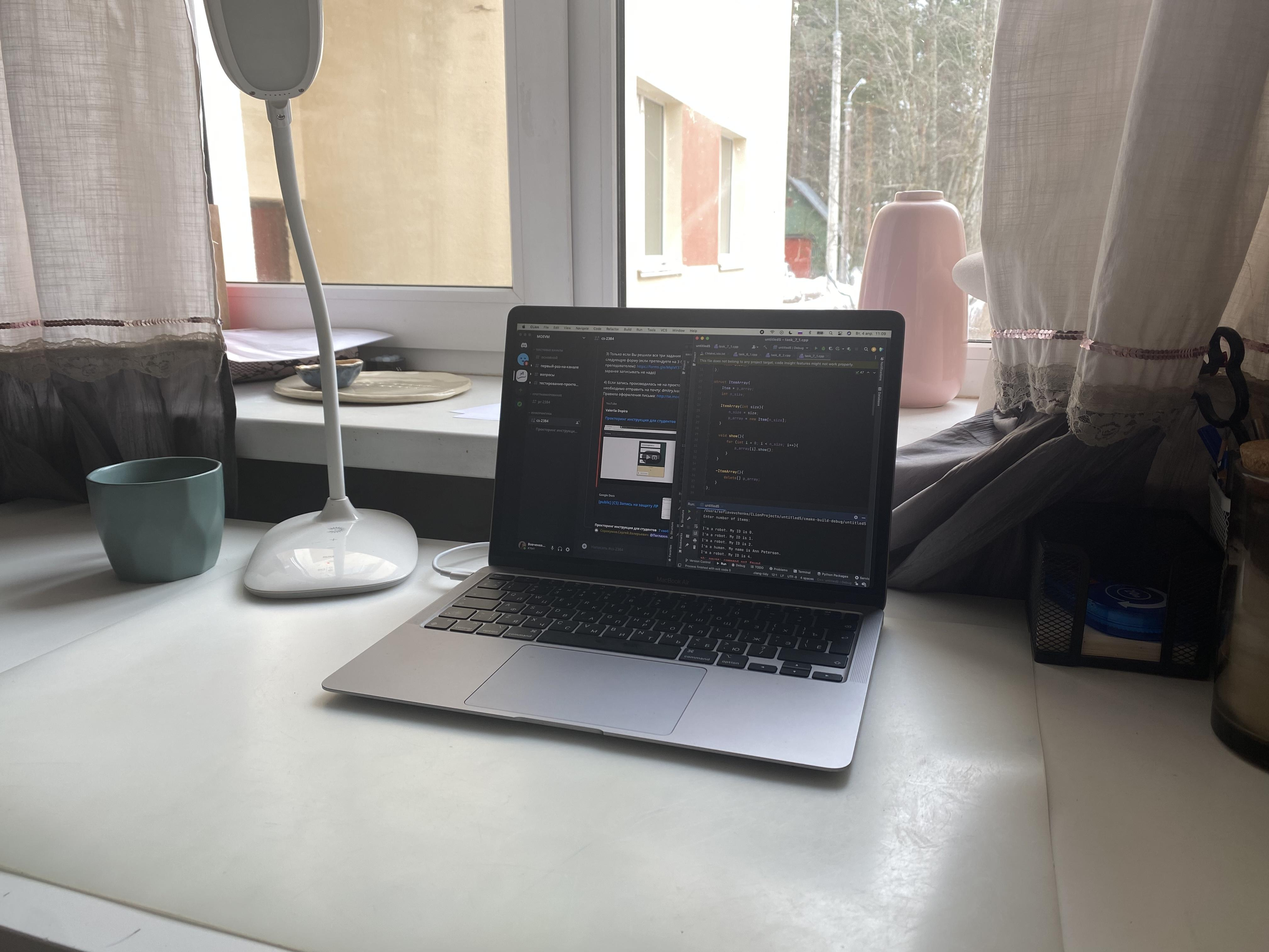monitor: (488, 301, 914, 612)
